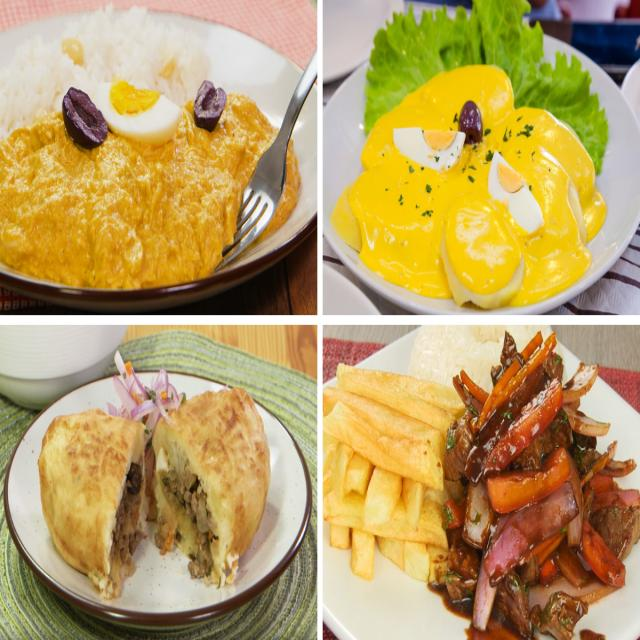huevos: (98, 78, 181, 142), (389, 118, 471, 176)
papa: (324, 362, 458, 593)
